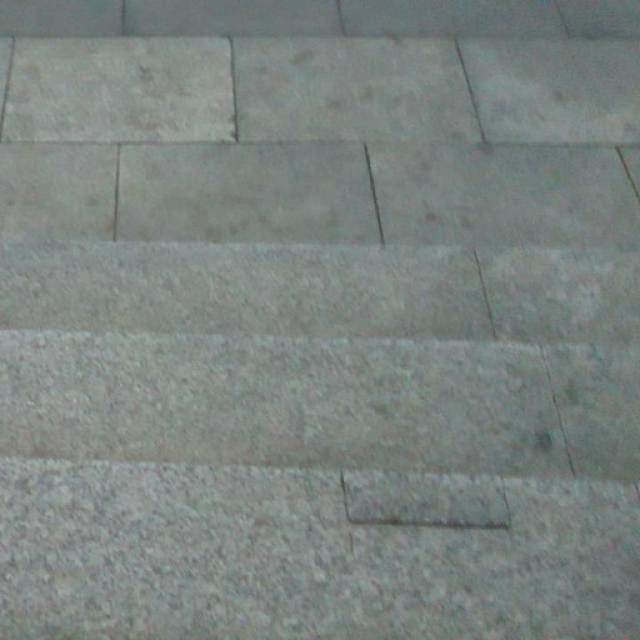stair: (0, 225, 630, 607)
